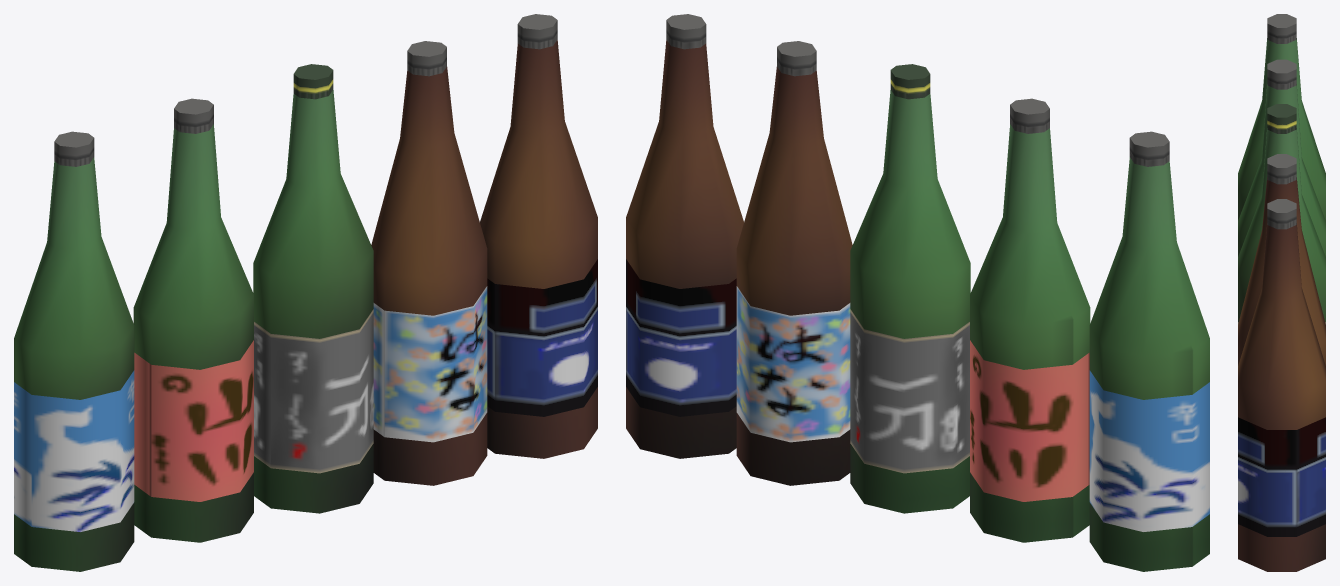
The model's file is sake01alw_set.fbx.
The picture shows the model from 3 angles, left to right: view 1: azimuth 30°, elevation 25°; view 2: azimuth 150°, elevation 25°; view 3: azimuth 270°, elevation 25°; orthographic projection. The views are drawn at different scales.
Visible parts, largest first — view 1: sake01alw_set; view 2: sake01alw_set; view 3: sake01alw_set.
Part boxes in pixels (x1=…): sake01alw_set: x1=14, y1=14, x2=597, y2=571; sake01alw_set: x1=626, y1=14, x2=1209, y2=571; sake01alw_set: x1=1238, y1=14, x2=1325, y2=571.
Bounding box in the file's own units: 65.59 × 46.2 × 10.55.
